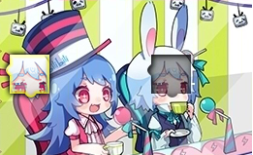gap: (147, 54, 191, 97)
